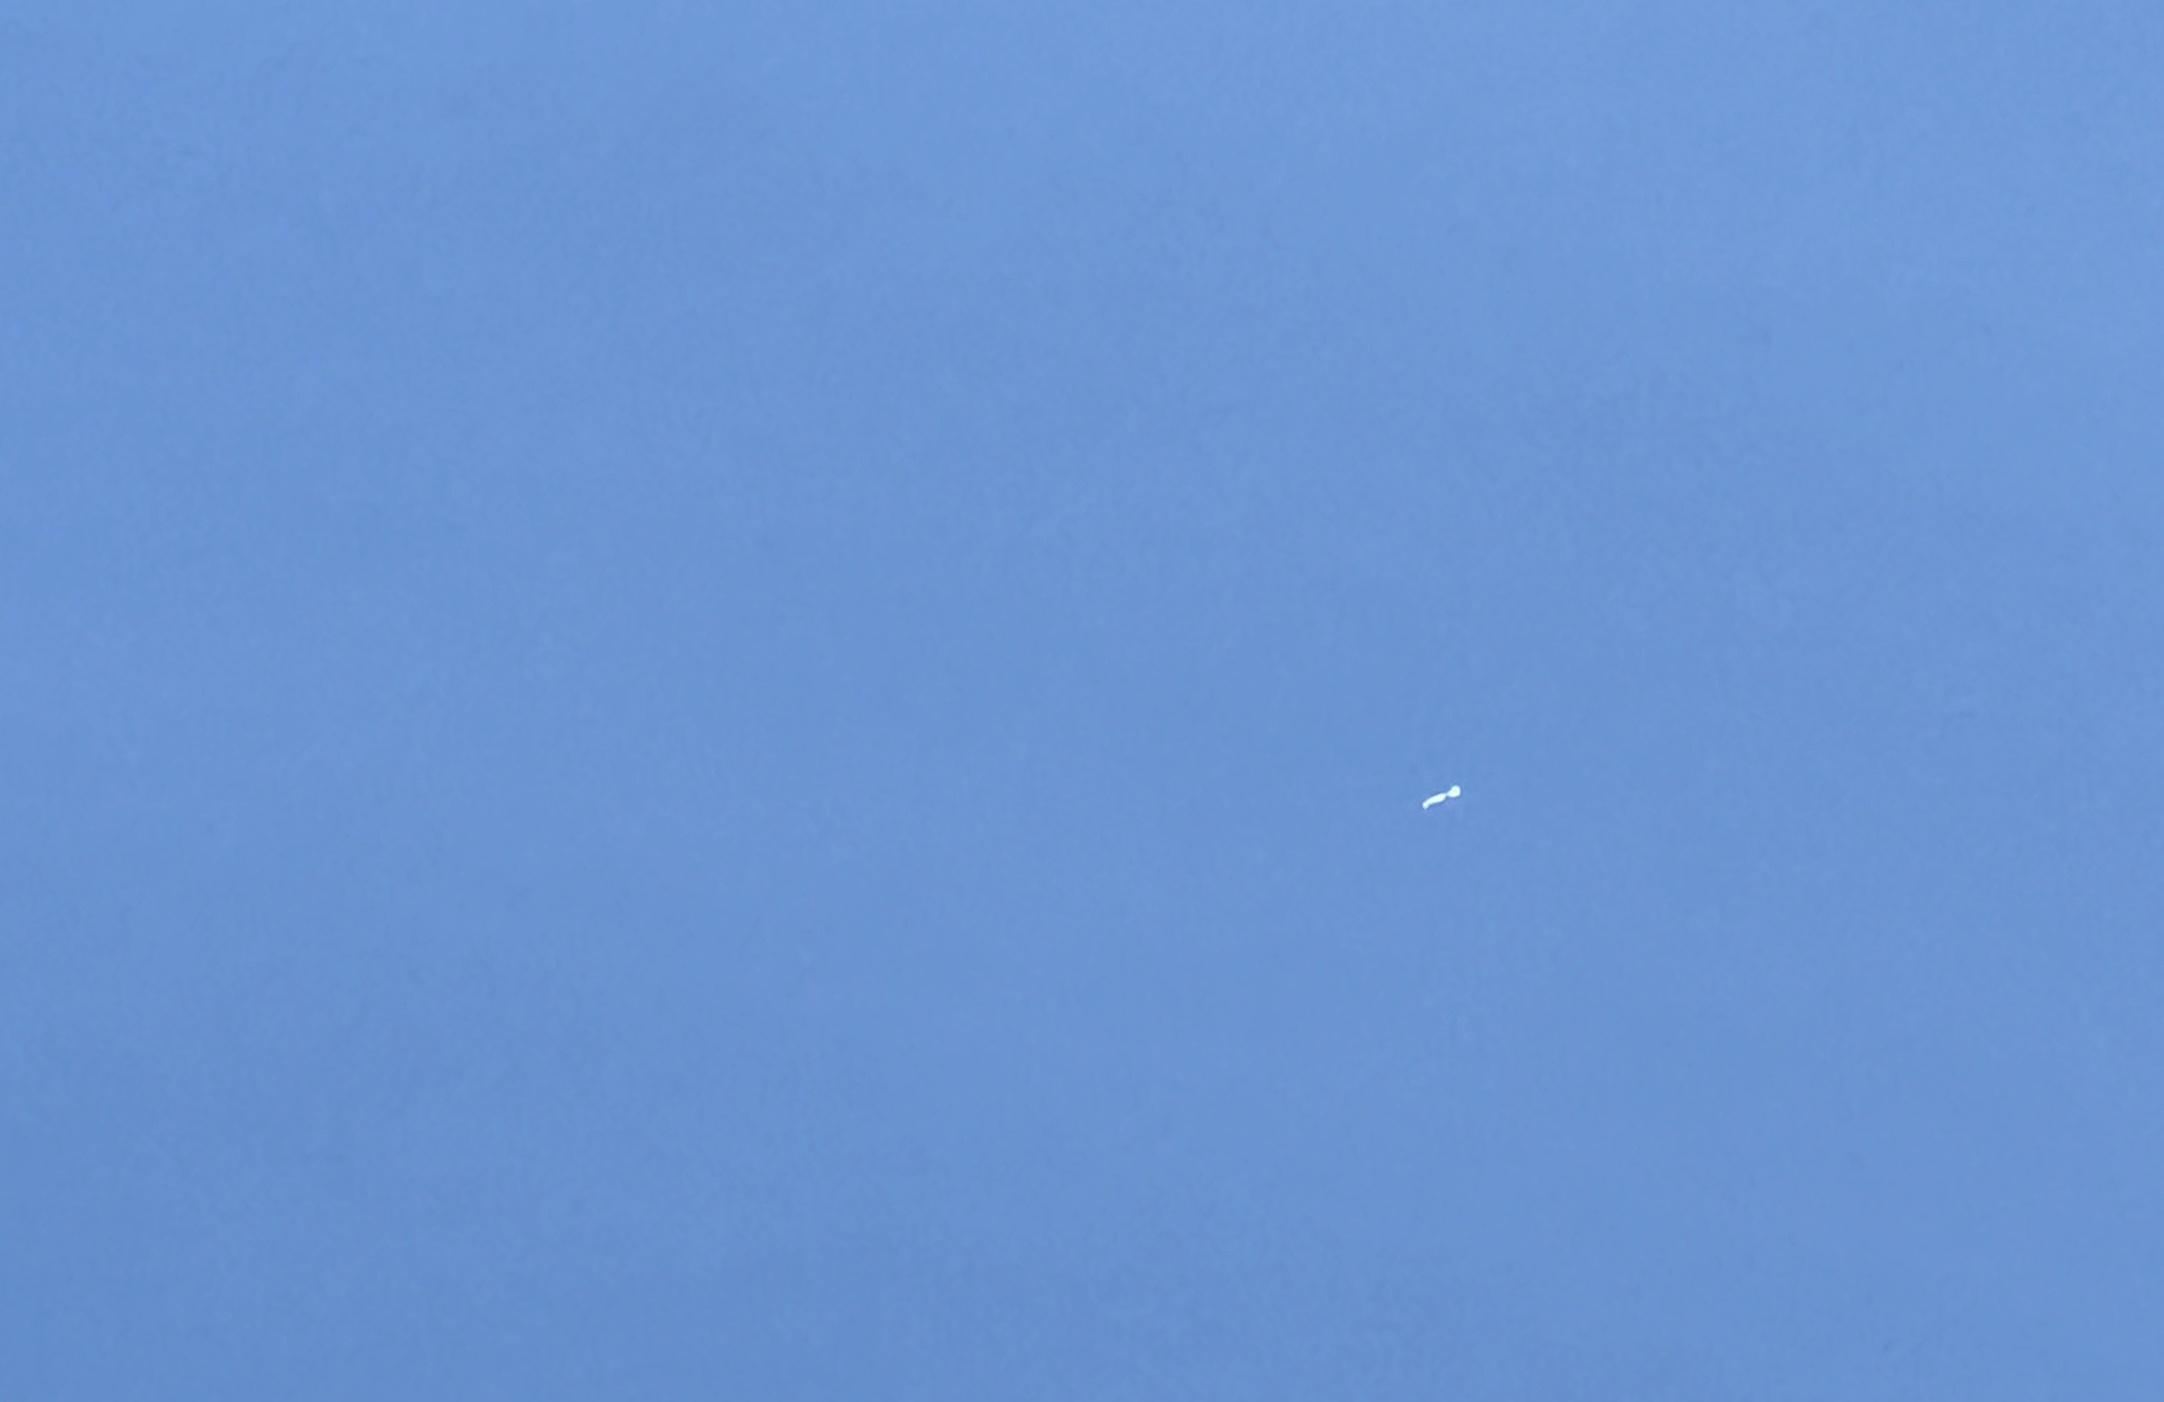Plane: (1361, 771, 1494, 826)
